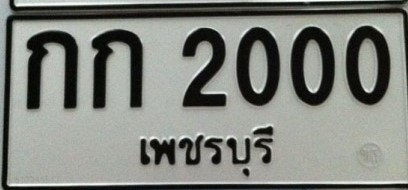txt01: (23, 28, 79, 111), (89, 27, 144, 110)
